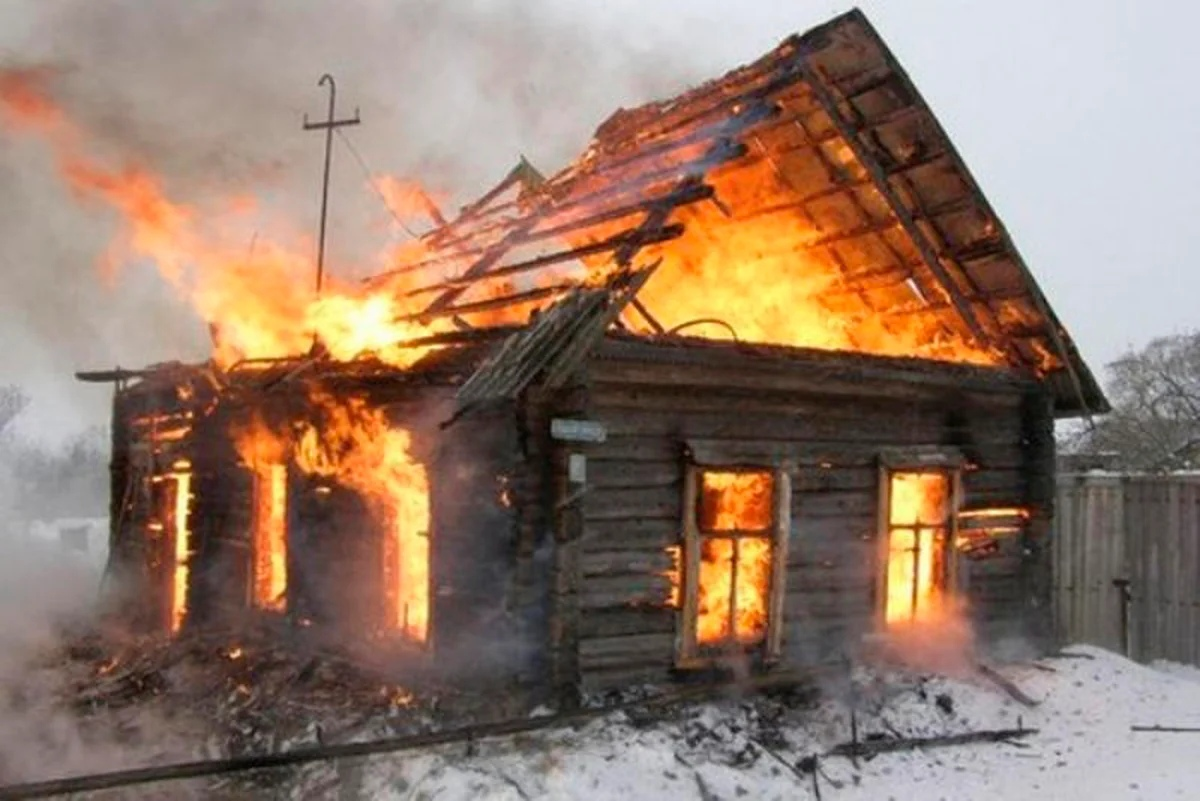fire: (15, 2, 1040, 711)
